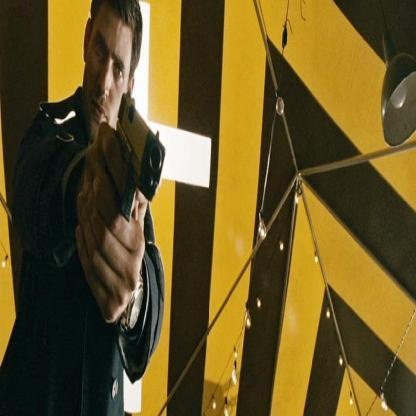gun: (116, 78, 169, 248)
